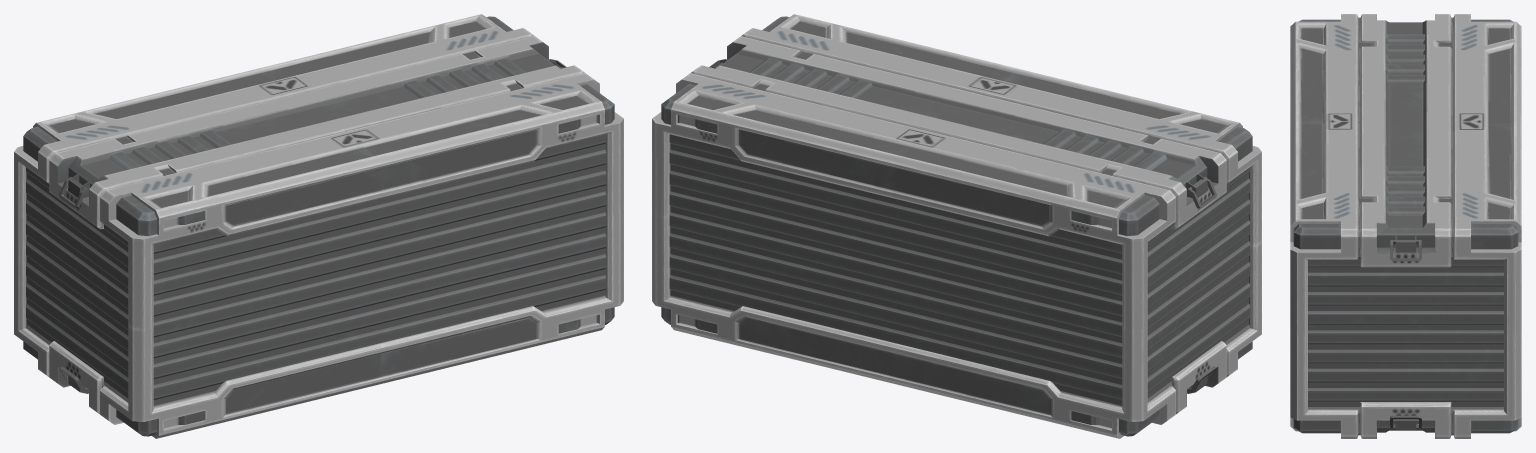
File: Prop_Crate_Large.gltf
3 views of the same model, side by side, from view 1: azimuth 30°, elevation 25°; view 2: azimuth 150°, elevation 25°; view 3: azimuth 270°, elevation 25° (orthographic). The views are drawn at different scales.
Parts seen in each view (by area): view 1: Prop_Crate_Large; view 2: Prop_Crate_Large; view 3: Prop_Crate_Large.
Part boxes in pixels (x1,y1,x2,y2): Prop_Crate_Large: [14, 14, 623, 438]; Prop_Crate_Large: [652, 14, 1261, 438]; Prop_Crate_Large: [1290, 14, 1521, 438].
Size of the model in its own units: 3.47 by 1.5 by 1.5.
Materials: 1 (1 with a texture image).
